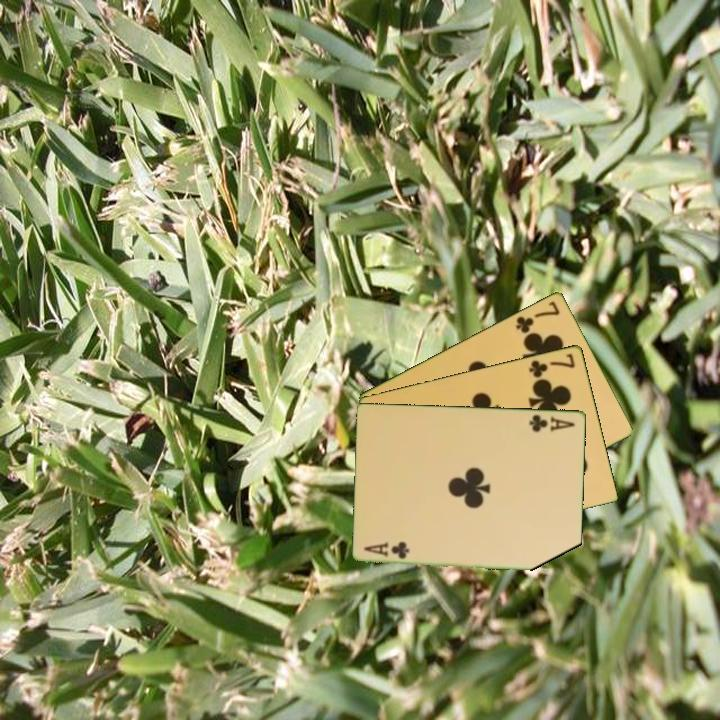7c: (512, 297, 563, 336), (525, 349, 578, 380)
Ac: (526, 411, 578, 435), (361, 539, 412, 562)
